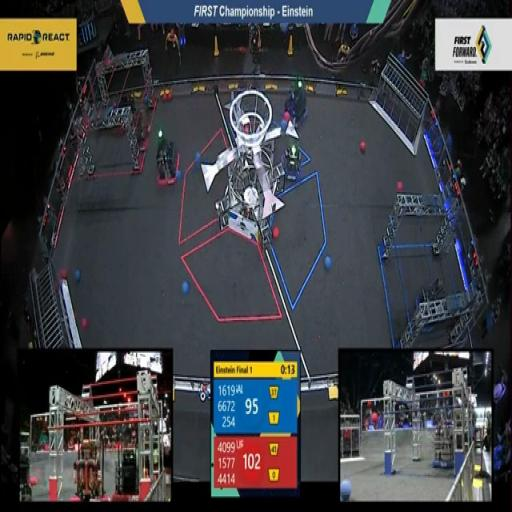robot: (412, 272, 447, 336), (281, 67, 311, 126), (154, 134, 180, 188), (279, 132, 304, 185)
